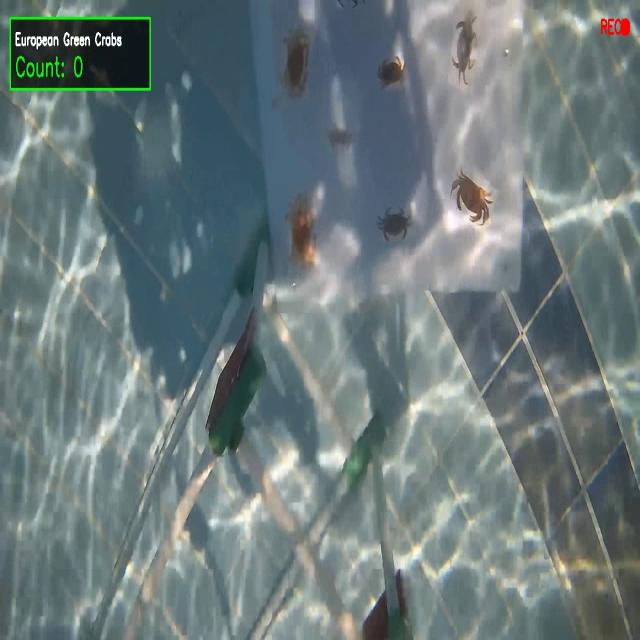European_Green_Crab: (446, 8, 486, 98), (374, 195, 417, 242), (321, 122, 358, 156)
